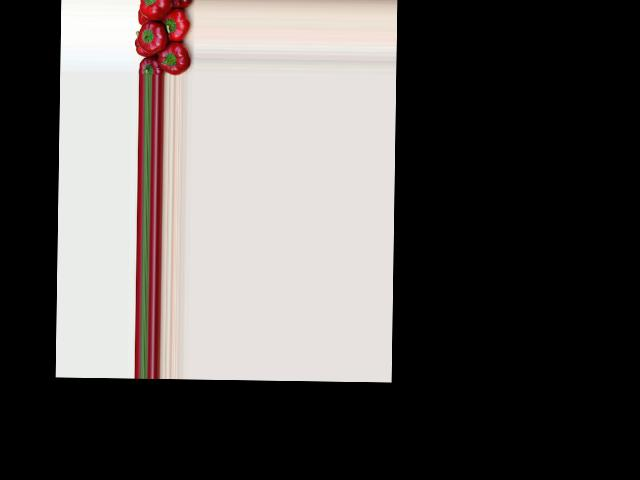bell_pepper: (136, 11, 149, 25)
